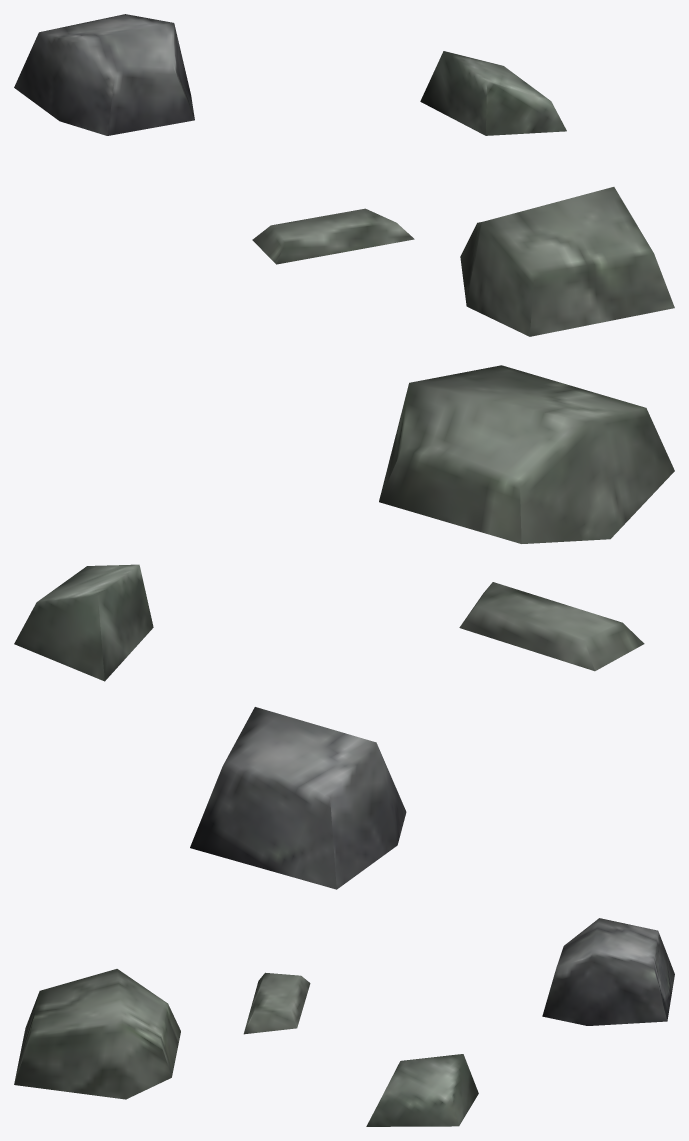
File: Area_08_33.fbx
3 views of the same model, one above another, from view 1: azimuth 30°, elevation 25°; view 2: azimuth 150°, elevation 25°; view 3: azimuth 270°, elevation 25° (orthographic). The views are drawn at different scales.
Visible parts, largest first — view 1: Area_08_33; view 2: Area_08_33; view 3: Area_08_33.
Boxes of the visible parts, <box> form: Area_08_33: <box>14,14,674,336</box>; Area_08_33: <box>14,365,674,889</box>; Area_08_33: <box>14,918,674,1126</box>.
Bounding box in the file's own units: 224 × 47.57 × 411.
